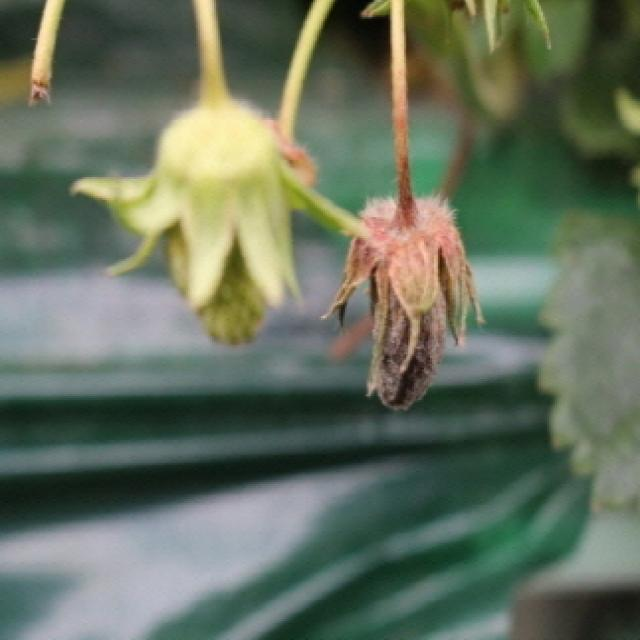Gray Mold: (324, 172, 483, 413)
